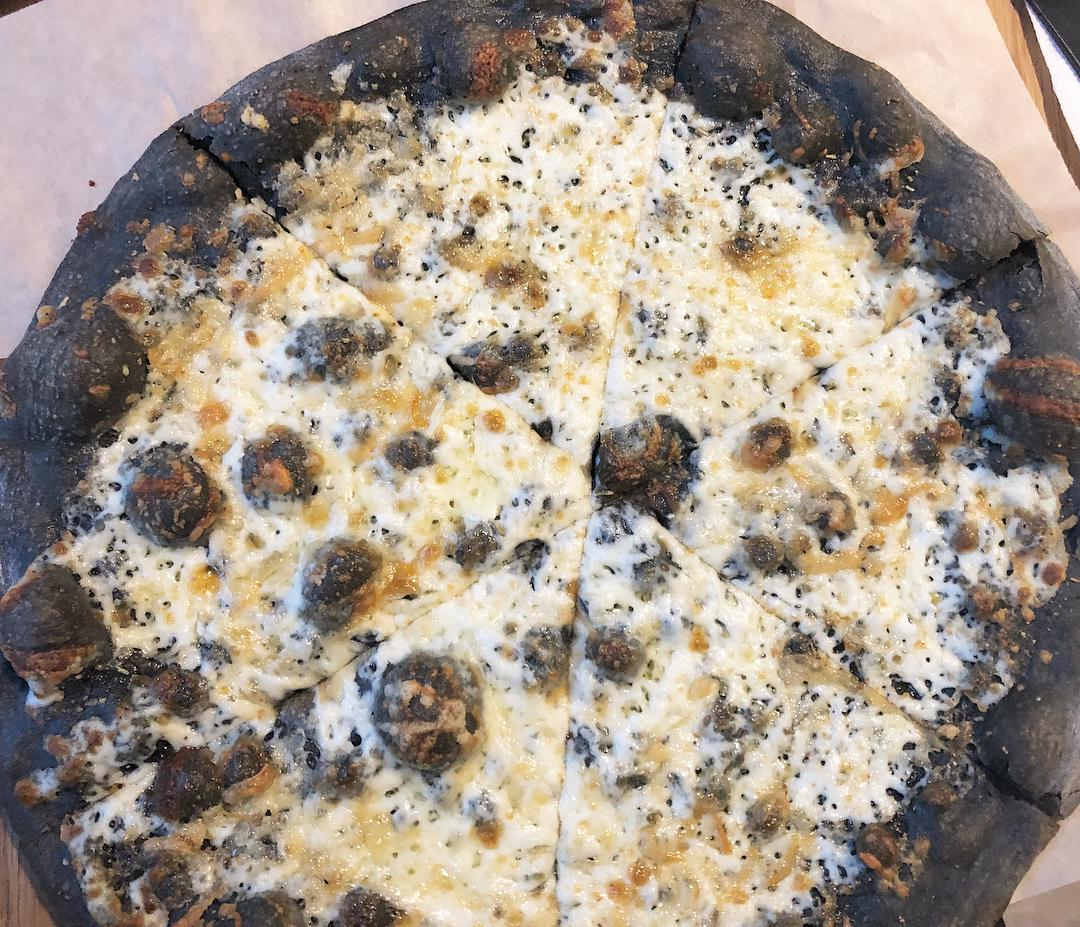Pizza: (4, 8, 1080, 927)
